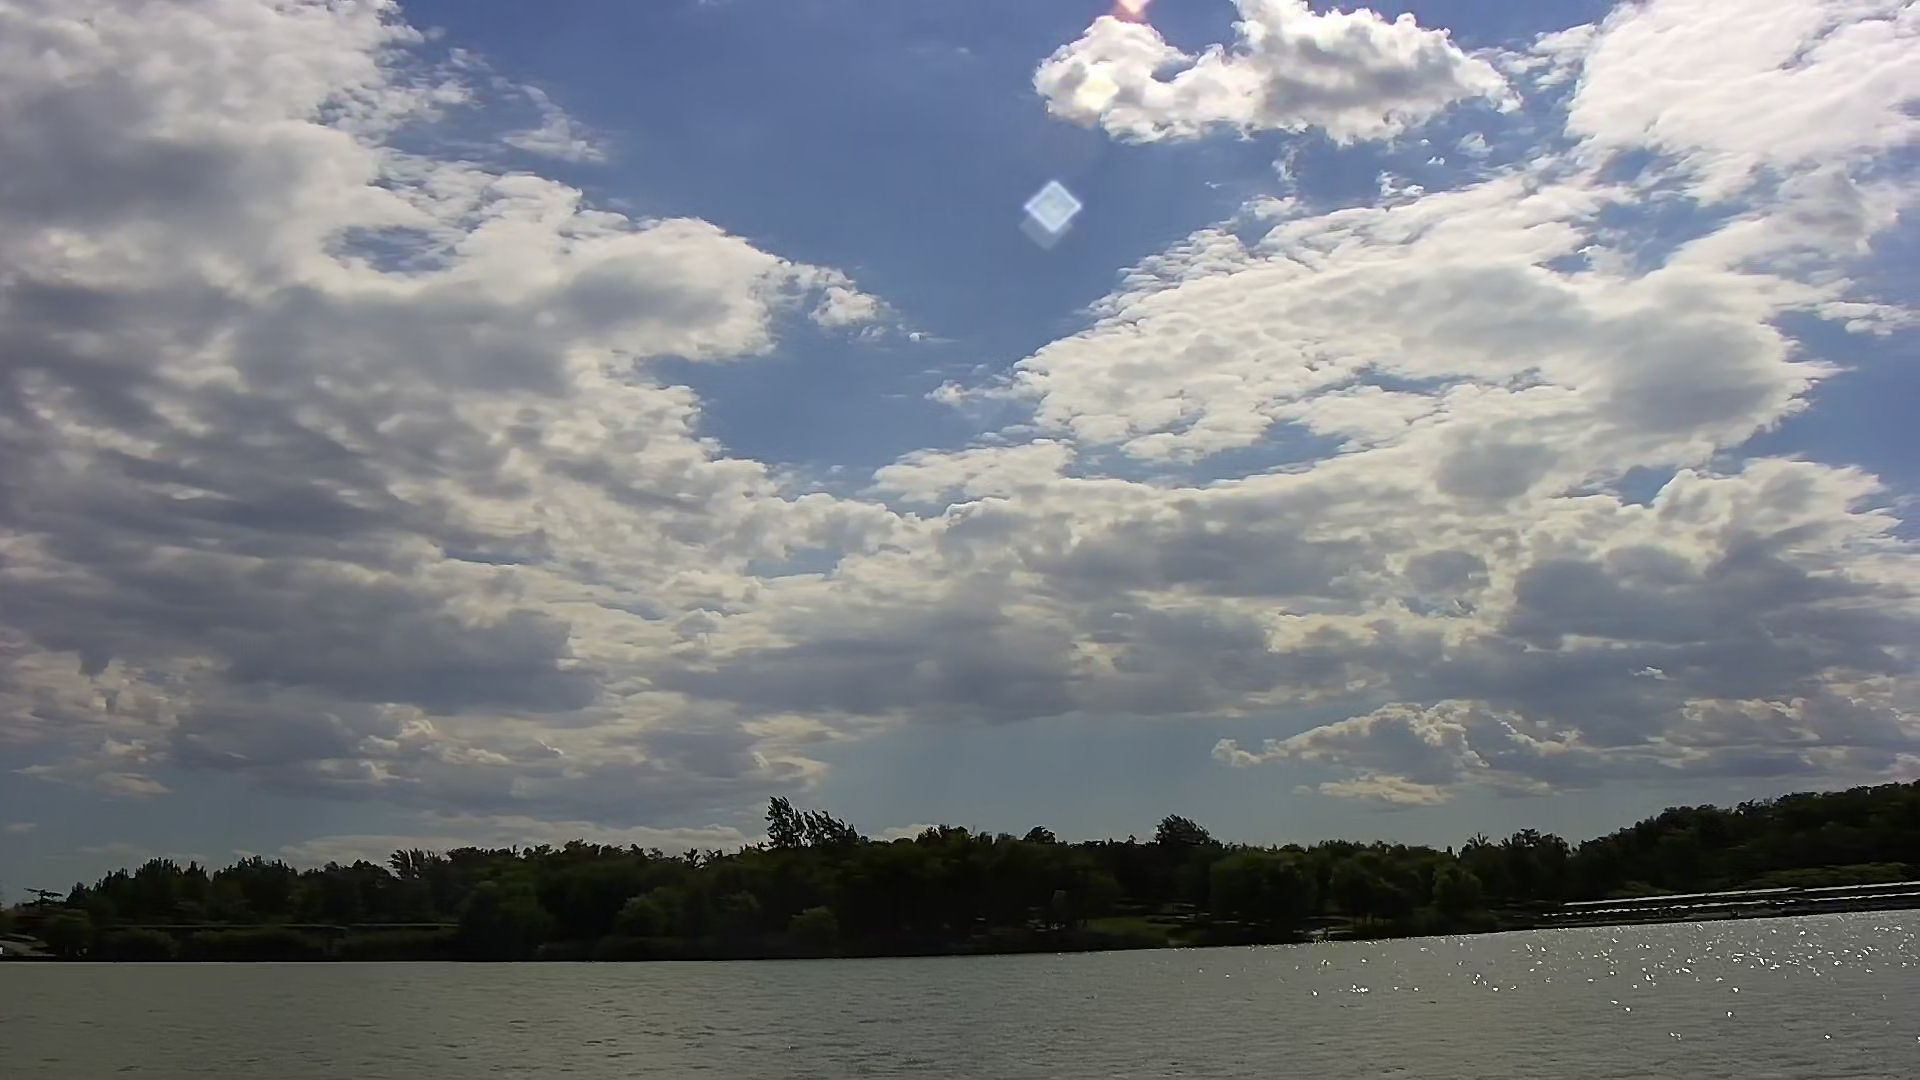harbor: (1559, 880, 1920, 920)
